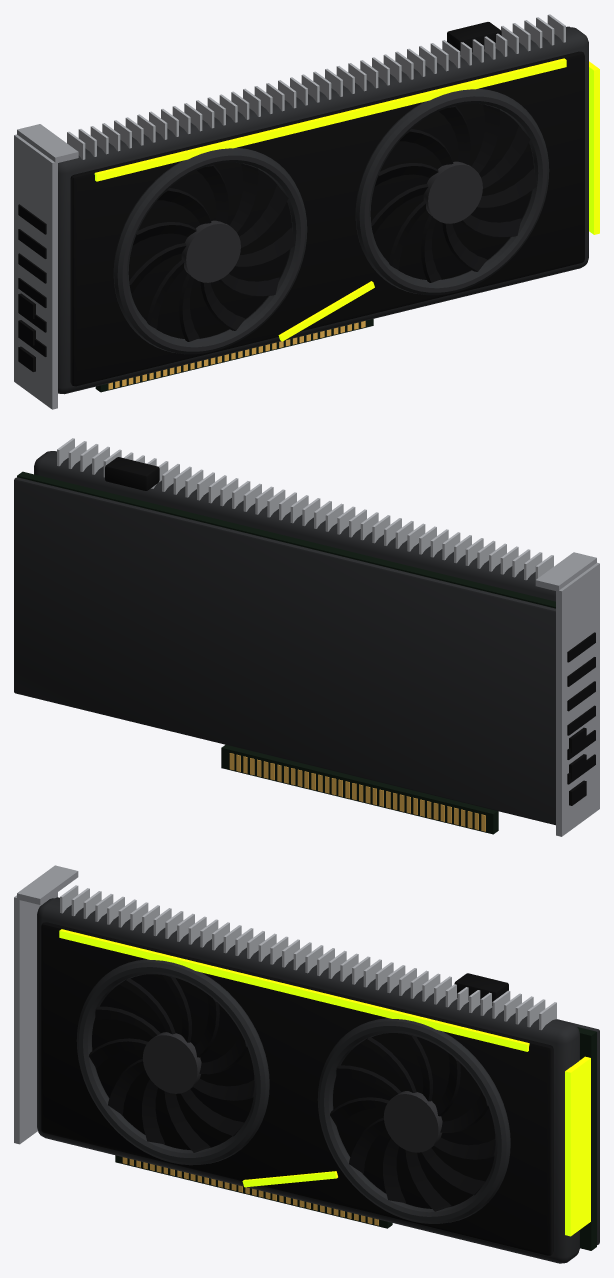
The model's file is gpu_card.glb.
The picture shows the model from 3 angles, top to bottom: view 1: azimuth 30°, elevation 25°; view 2: azimuth 150°, elevation 25°; view 3: azimuth 330°, elevation 25°; orthographic projection.
Parts seen in each view (by area): view 1: gpu_card; view 2: gpu_card; view 3: gpu_card.
Boxes of the visible parts, box(x1,y1,x2,y2) form: gpu_card: box(14, 14, 599, 409); gpu_card: box(14, 438, 599, 836); gpu_card: box(14, 865, 599, 1263).
Size of the model in its own units: 2.85 by 1.34 by 0.3633.
